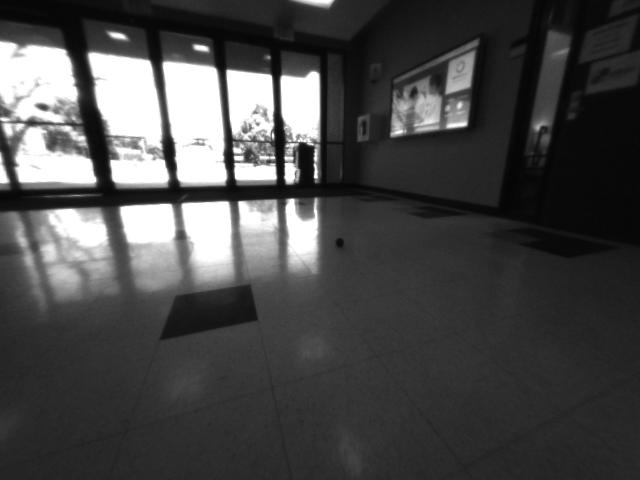dogtoy: (326, 229, 354, 254)
